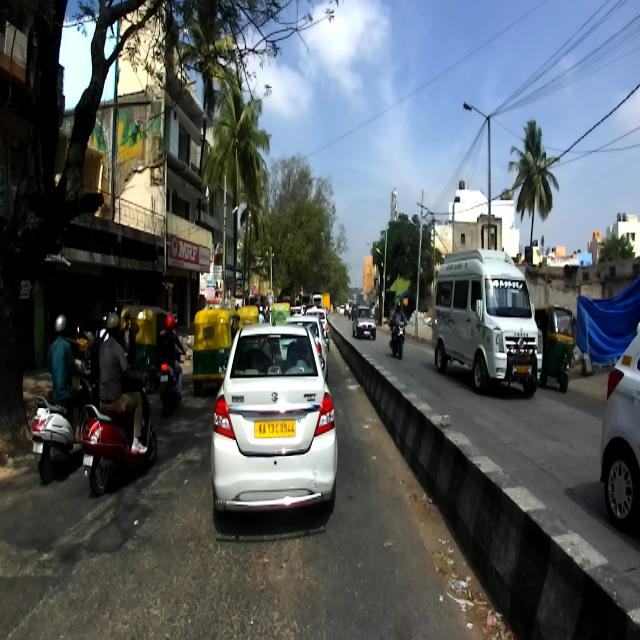car ahead at: (206, 310, 353, 539)
motorcycle ahead at: (80, 390, 164, 511), (29, 390, 95, 472)
